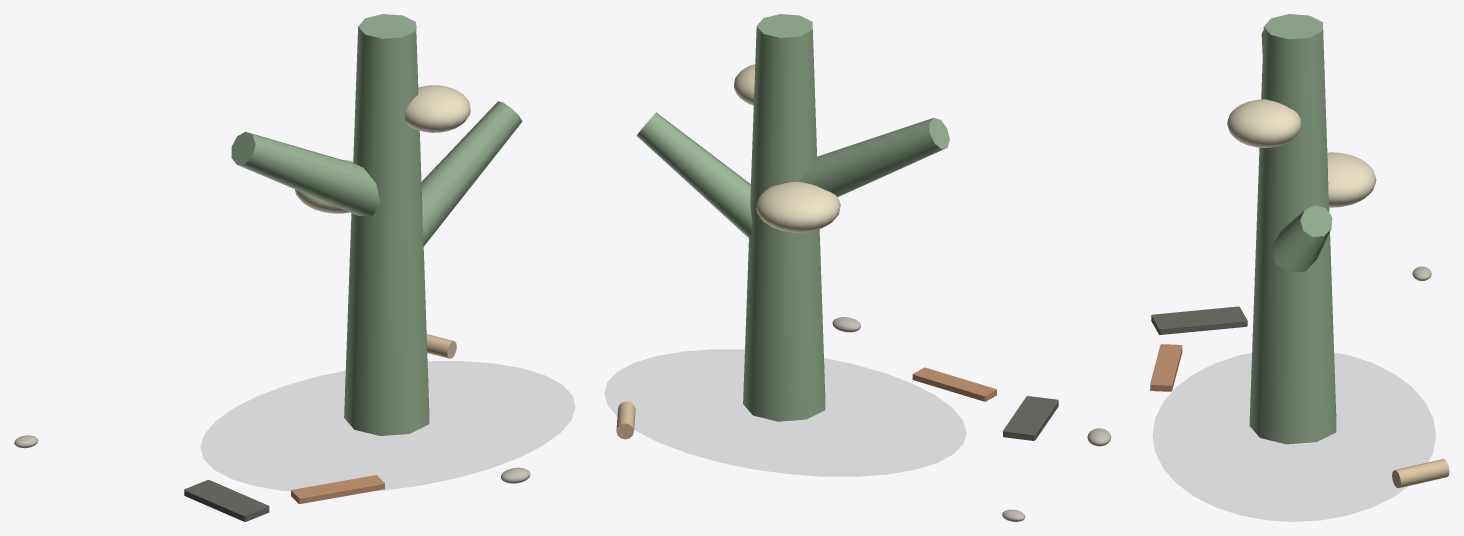
Rendered from cactus.glb.
3 renders of one model, left to right at view 1: azimuth 30°, elevation 25°; view 2: azimuth 150°, elevation 25°; view 3: azimuth 270°, elevation 25°, orthographic. The views are drawn at different scales.
Visible parts, largest first — view 1: painted_contact_shadow, main_cactus_stem, left_cactus_arm, right_cactus_arm, pale_spine_cluster_b, loose_scrap_flake_1, loose_scrap_flake_4; view 2: painted_contact_shadow, main_cactus_stem, left_cactus_arm, right_cactus_arm, pale_spine_cluster_a, loose_scrap_flake_1, loose_scrap_flake_4, pale_spine_cluster_b, discarded_bolt_detail_3; view 3: painted_contact_shadow, main_cactus_stem, pale_spine_cluster_b, right_cactus_arm, pale_spine_cluster_a, loose_scrap_flake_1, loose_scrap_flake_4, discarded_bolt_detail_3.
Part boxes in pixels (left/top/right/bottom): painted_contact_shadow: left=201, top=361, right=574, bottom=490; main_cactus_stem: left=344, top=14, right=429, bottom=435; left_cactus_arm: left=231, top=131, right=380, bottom=216; right_cactus_arm: left=421, top=101, right=522, bottom=246; pale_spine_cluster_b: left=404, top=85, right=470, bottom=132; loose_scrap_flake_1: left=184, top=480, right=269, bottom=521; loose_scrap_flake_4: left=291, top=475, right=384, bottom=503; painted_contact_shadow: left=605, top=350, right=965, bottom=476; main_cactus_stem: left=743, top=14, right=825, bottom=421; left_cactus_arm: left=799, top=118, right=949, bottom=197; right_cactus_arm: left=636, top=112, right=752, bottom=237; pale_spine_cluster_a: left=756, top=181, right=840, bottom=232; loose_scrap_flake_1: left=1003, top=396, right=1058, bottom=440; loose_scrap_flake_4: left=912, top=367, right=996, bottom=401; pale_spine_cluster_b: left=734, top=64, right=755, bottom=105; discarded_bolt_detail_3: left=616, top=401, right=635, bottom=439; painted_contact_shadow: left=1153, top=353, right=1435, bottom=521; main_cactus_stem: left=1249, top=14, right=1336, bottom=444; pale_spine_cluster_b: left=1227, top=99, right=1301, bottom=147; right_cactus_arm: left=1272, top=205, right=1332, bottom=272; pale_spine_cluster_a: left=1327, top=152, right=1376, bottom=207; loose_scrap_flake_1: left=1151, top=306, right=1247, bottom=334; loose_scrap_flake_4: left=1150, top=344, right=1182, bottom=391; discarded_bolt_detail_3: left=1392, top=459, right=1449, bottom=488.
Size of the model in its own units: 1.53 by 1.21 by 0.9703.
